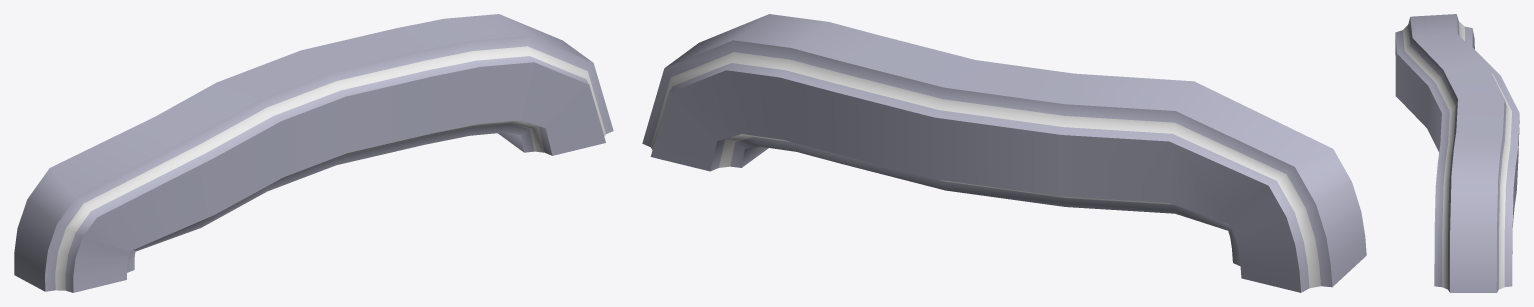
Rendered from Pipe_1.fbx.
3 renders of one model, left to right at view 1: azimuth 30°, elevation 25°; view 2: azimuth 150°, elevation 25°; view 3: azimuth 270°, elevation 25°, orthographic. The views are drawn at different scales.
Parts seen in each view (by area): view 1: Pipe_1; view 2: Pipe_1; view 3: Pipe_1.
Boxes of the visible parts, x1,y1,x2,y2 form: Pipe_1: (14, 14, 613, 292); Pipe_1: (642, 14, 1366, 292); Pipe_1: (1395, 14, 1519, 292).
Size of the model in its own units: 13.29 by 2.74 by 3.2.
